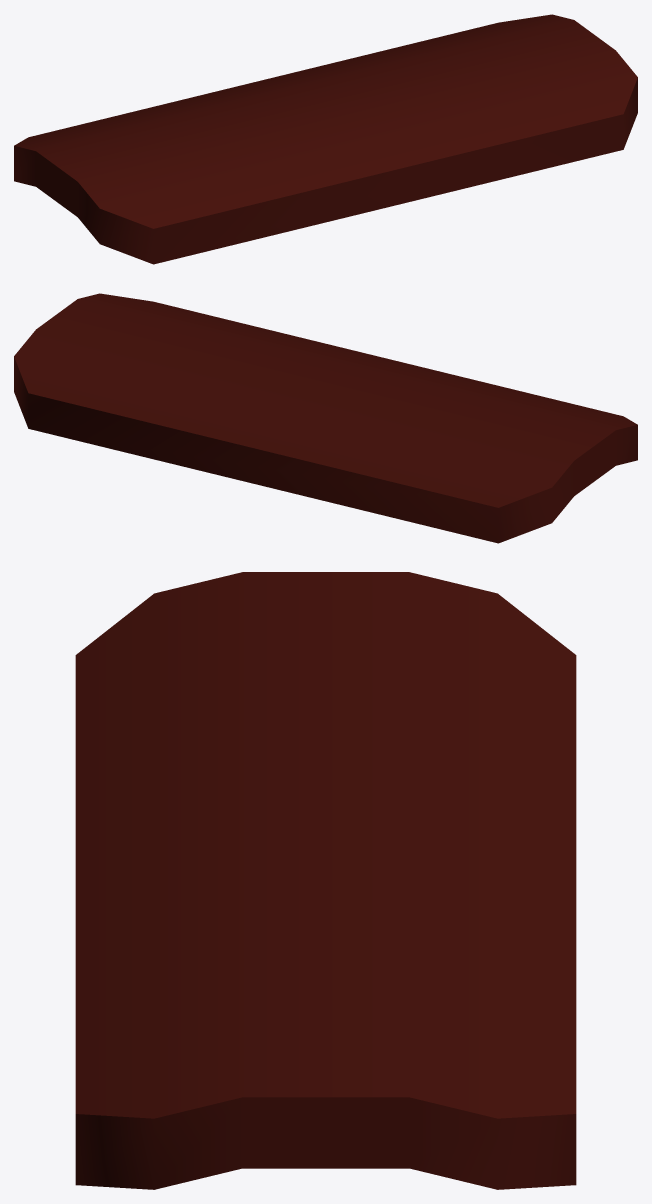
The model's file is RoofTileTop.FBX.
The picture shows the model from 3 angles, top to bottom: view 1: azimuth 30°, elevation 25°; view 2: azimuth 150°, elevation 25°; view 3: azimuth 270°, elevation 25°; orthographic projection. The views are drawn at different scales.
Parts seen in each view (by area): view 1: RoofTileTop; view 2: RoofTileTop; view 3: RoofTileTop.
Boxes of the visible parts, x1=… form: RoofTileTop: x1=14, y1=14, x2=637, y2=264; RoofTileTop: x1=14, y1=293, x2=637, y2=543; RoofTileTop: x1=75, y1=572, x2=576, y2=1189.
Bounding box in the file's own units: 79.1 × 8.5 × 31.86.
